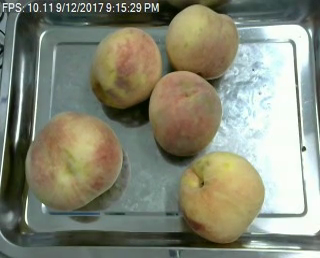Peach: (26, 110, 122, 211), (178, 150, 267, 243), (149, 69, 222, 157), (90, 25, 162, 108), (166, 3, 239, 78)
